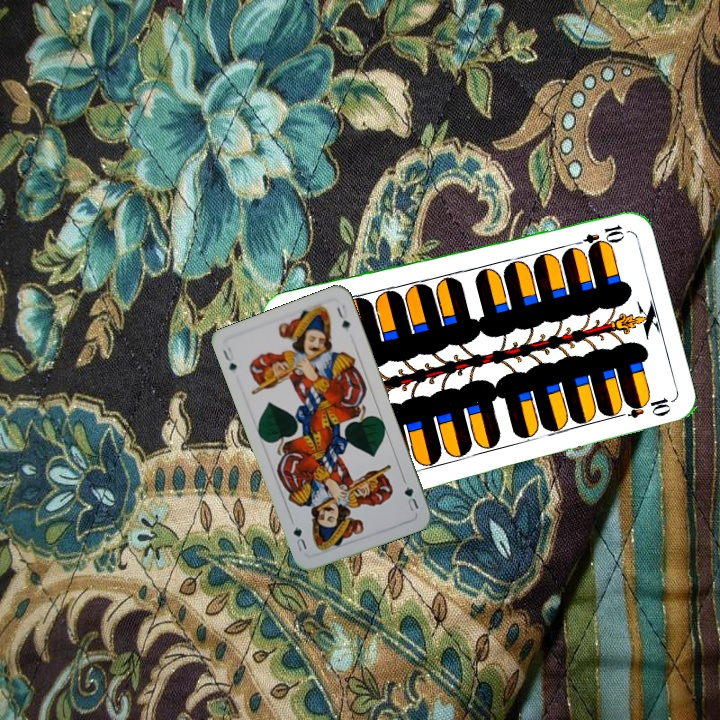E10: (568, 220, 627, 251)
GU: (400, 482, 421, 514), (219, 343, 239, 374)
